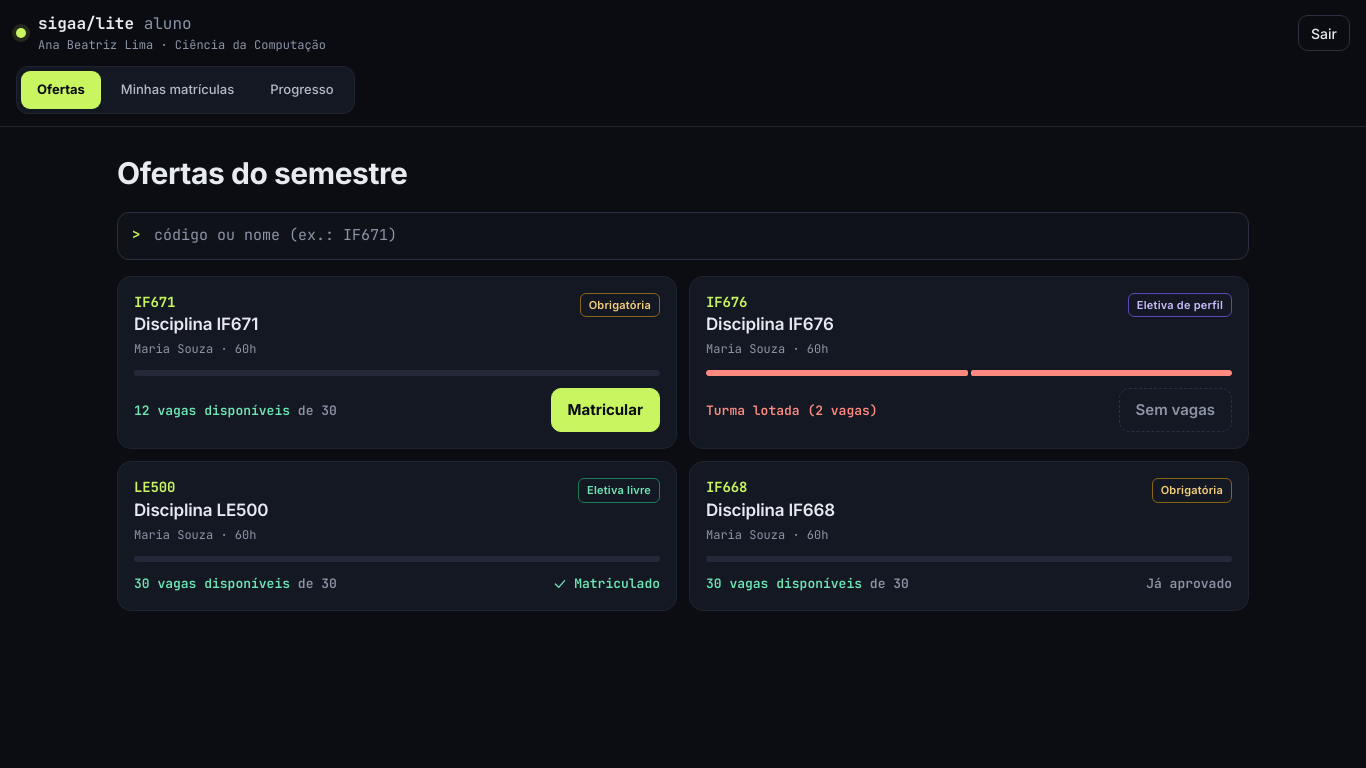
Scenario: Ofertas › mostra a mensagem da API quando a matrícula é recusada e atualiza a lista
The width and height of the screenshot is (1366, 768).
Expected: the heading "IF671 Disciplina IF671" is shown, 134,292 -> 258,336
Step 1. Click the button with aria-label "Matricular em IF671" → (605, 410), box 550,388 -> 660,432
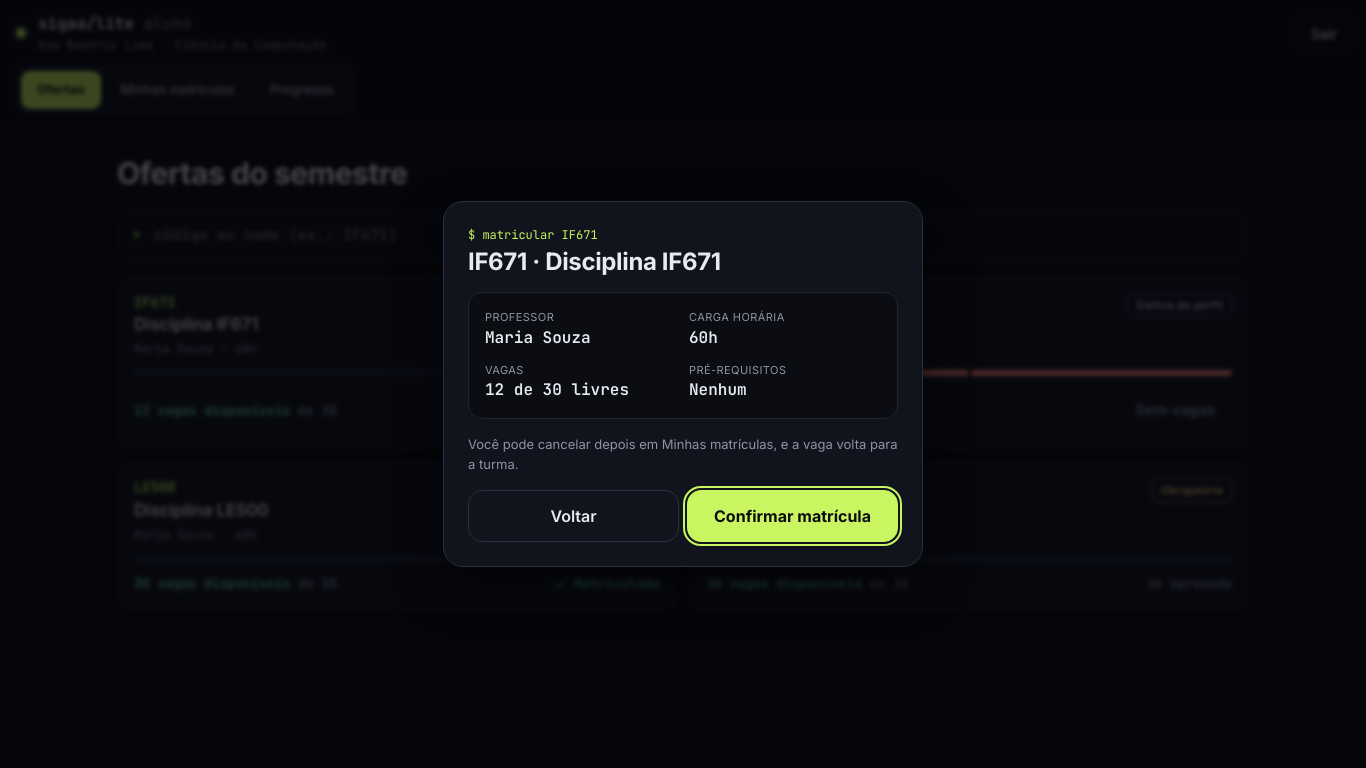
Step 2. Click the button "Confirmar matrícula" → (792, 516), box 687,490 -> 898,542
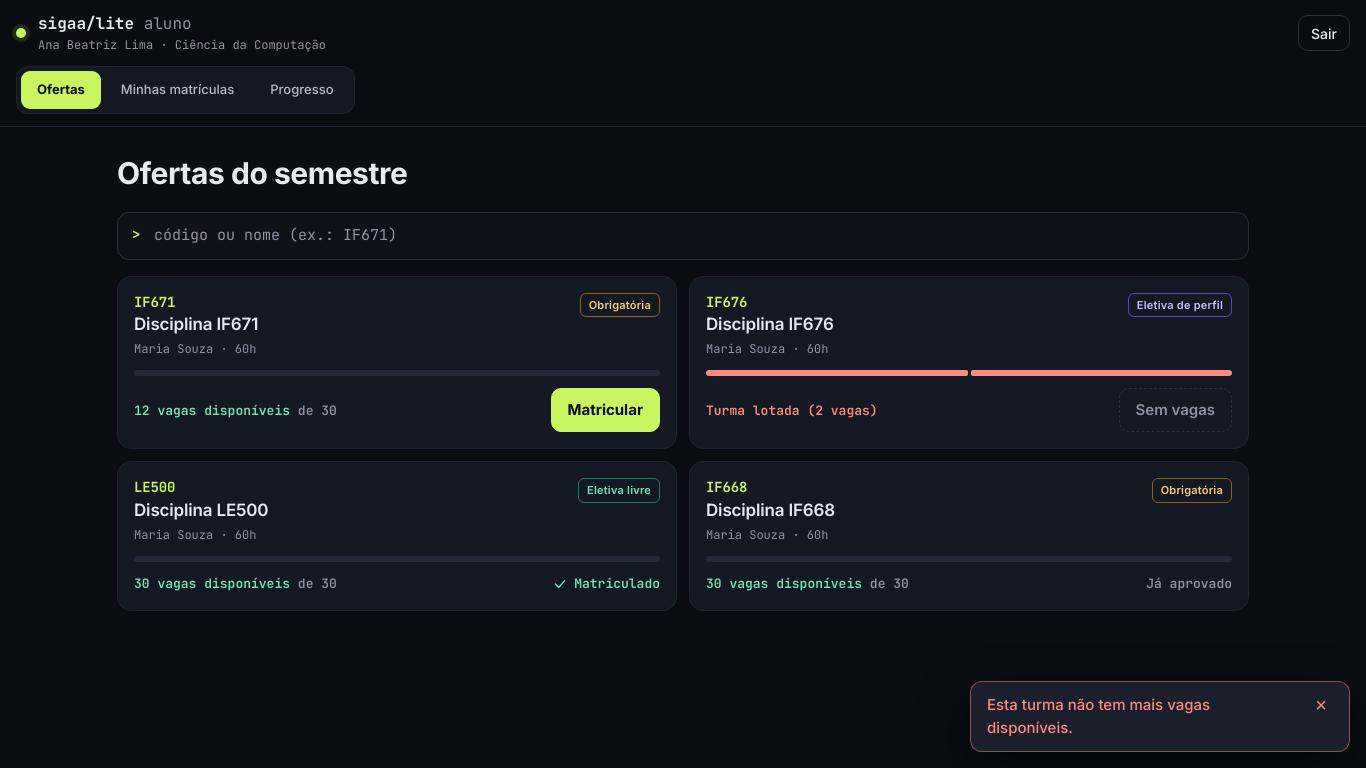
Now the message shows "Esta turma não tem mais vagas disponíveis.", box 987,695 -> 1210,736
